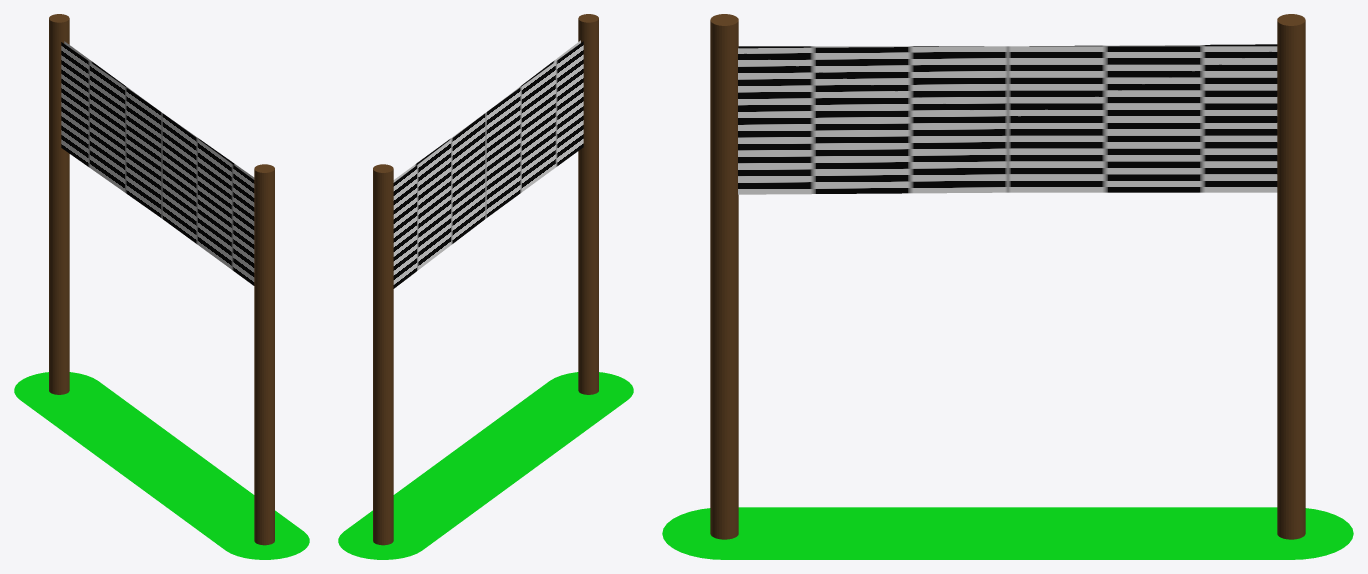
The model's file is FinishLine1.fbx.
The picture shows the model from 3 angles, left to right: view 1: azimuth 30°, elevation 25°; view 2: azimuth 150°, elevation 25°; view 3: azimuth 270°, elevation 25°; orthographic projection. The views are drawn at different scales.
Visible parts, largest first — view 1: Base, Plane, Plane.001, Cylinder.001, Cylinder; view 2: Base, Plane.001, Plane, Cylinder, Cylinder.001; view 3: Plane, Plane.001, Base, Cylinder, Cylinder.001.
Boxes of the visible parts, x1=… form: Base: x1=14, y1=372, x2=309, y2=559; Plane: x1=61, y1=42, x2=254, y2=218; Plane.001: x1=64, y1=41, x2=254, y2=285; Cylinder.001: x1=254, y1=164, x2=274, y2=545; Cylinder: x1=49, y1=14, x2=69, y2=394; Base: x1=338, y1=372, x2=633, y2=559; Plane.001: x1=393, y1=41, x2=583, y2=218; Plane: x1=393, y1=40, x2=580, y2=288; Cylinder: x1=373, y1=164, x2=393, y2=545; Cylinder.001: x1=578, y1=14, x2=598, y2=394; Plane: x1=738, y1=44, x2=1277, y2=194; Plane.001: x1=738, y1=46, x2=1277, y2=192; Base: x1=662, y1=507, x2=1353, y2=559; Cylinder: x1=1277, y1=14, x2=1305, y2=539; Cylinder.001: x1=710, y1=14, x2=738, y2=539.
Bounding box in the file's own units: 176 × 800 × 976.
